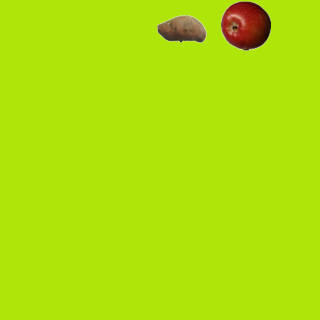Apple Braeburn: (220, 0, 270, 50)
Potato Sweet: (156, 3, 206, 53)
